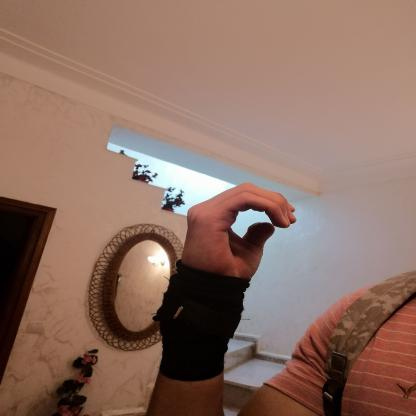JEEM: (167, 172, 307, 294)
